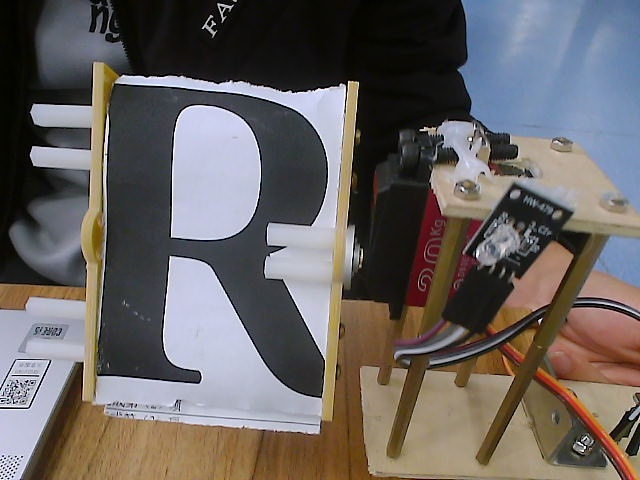R: (33, 53, 394, 446)
